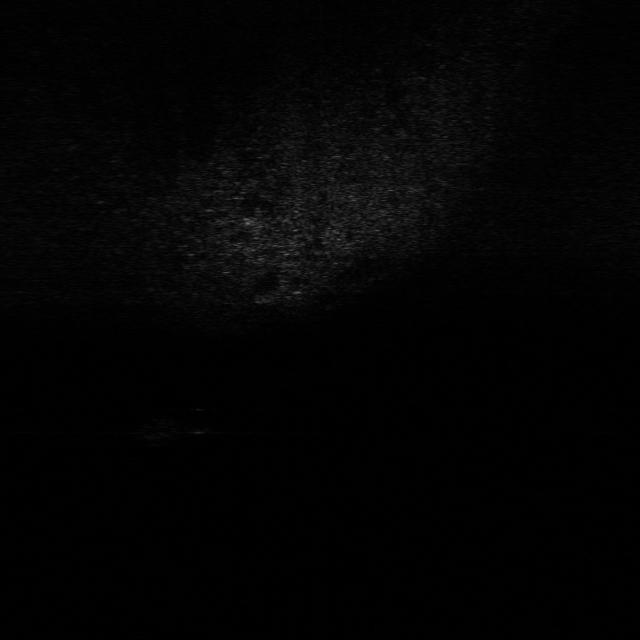ball: (176, 406, 220, 434)
circle cage: (126, 408, 184, 446)
